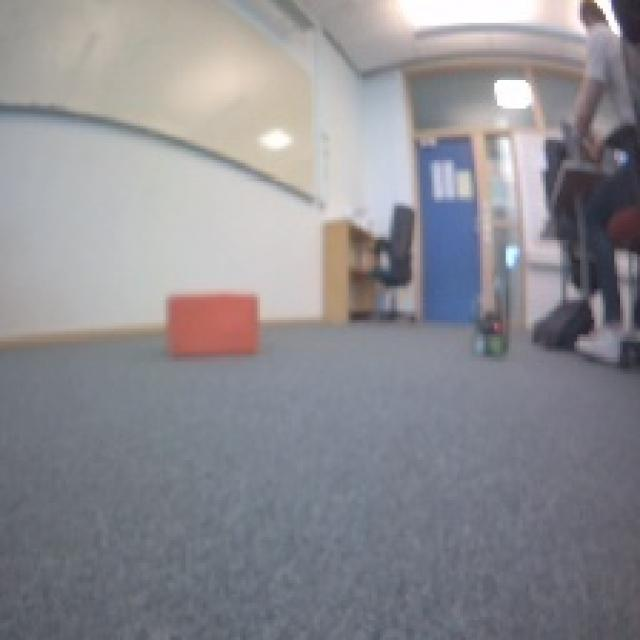robot: (468, 311, 514, 358)
target: (163, 289, 260, 357)
